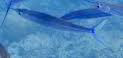sayori: (9, 7, 104, 46)
